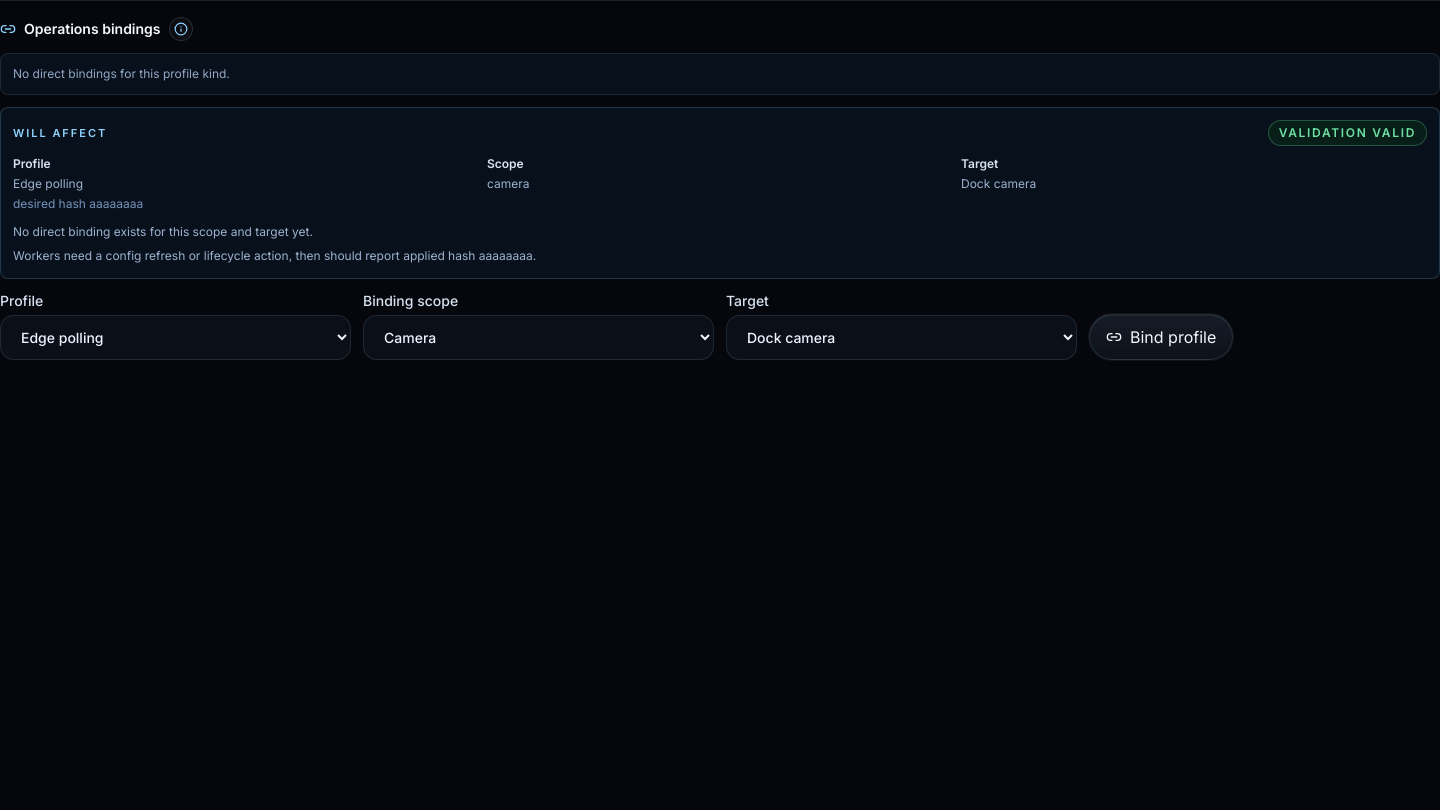
Scenario: ProfileBindingPanel › shows binding precedence help on demand
This screenshot has width=1440, height=810.
Click the button named "show operations mode bindings help" at (180, 29), box 168,17 -> 192,41
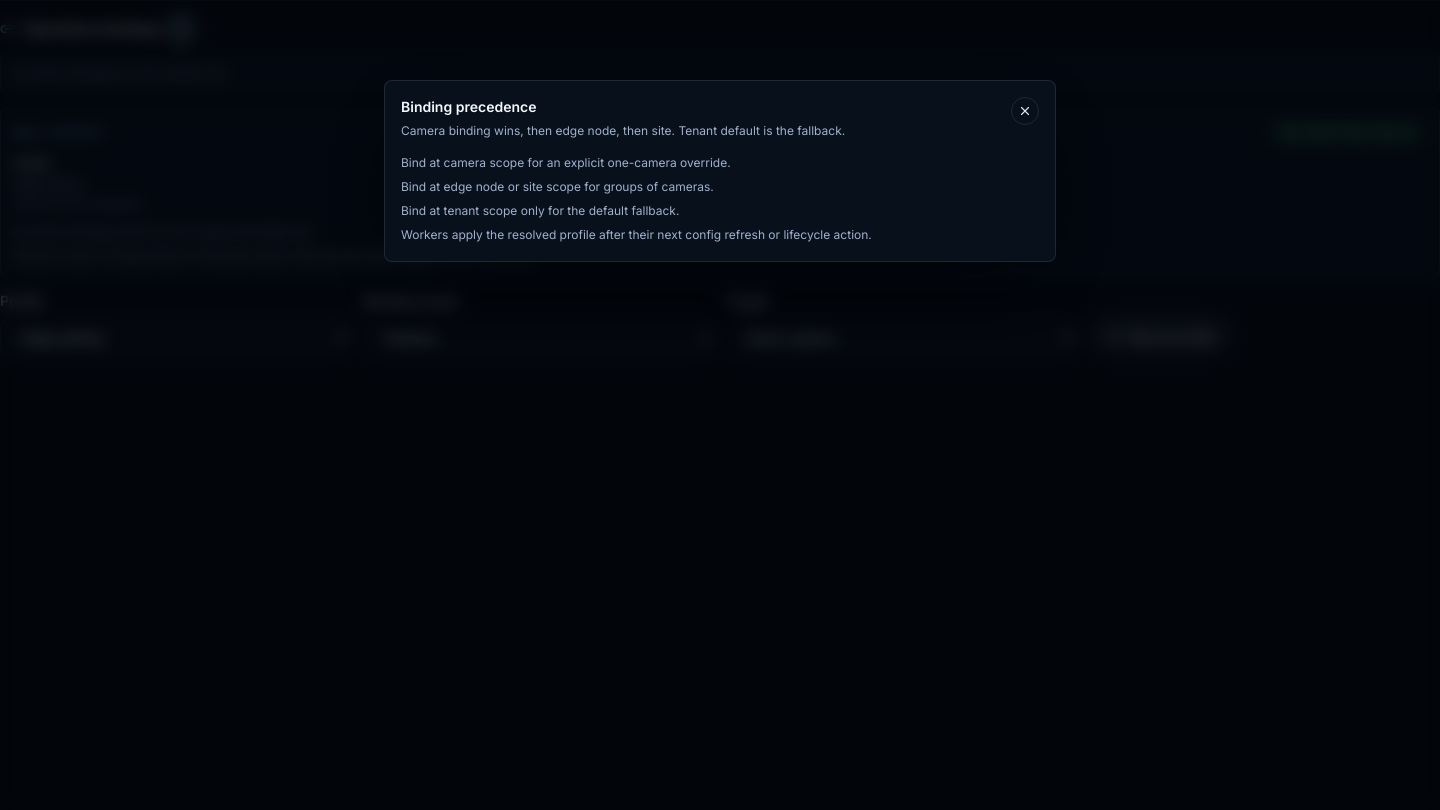
Check: the text "Tenant default is the fallback" is shown, box 401,123 -> 845,138
Check: the list item "next config refresh or lifecycle action" is shown, box 401,227 -> 872,242
